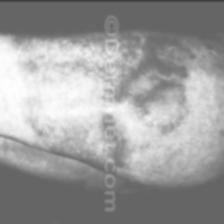Unclassified: (117, 47, 185, 167), (22, 44, 100, 141), (134, 32, 174, 50)
